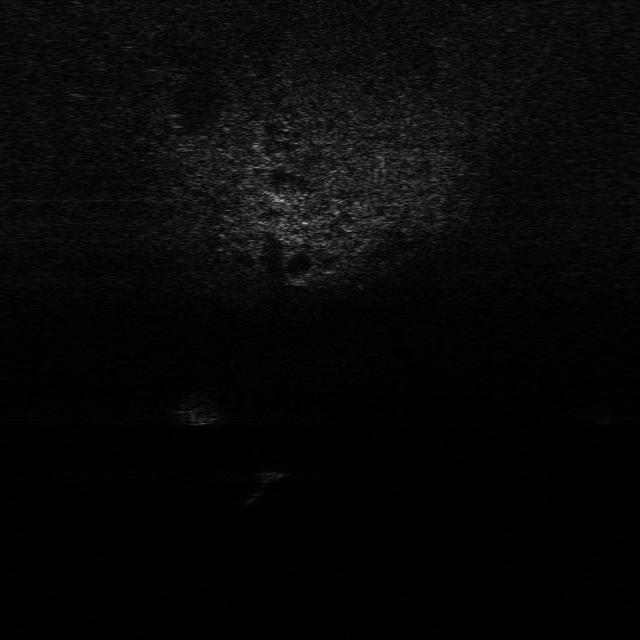circle cage: (168, 391, 232, 432)
cylinder: (242, 471, 284, 510)
